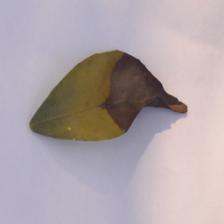black spot: (104, 52, 176, 132)
